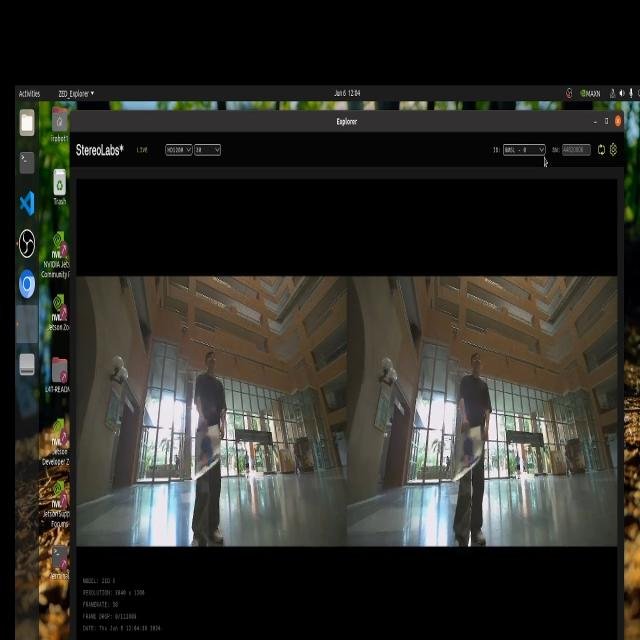blue: (460, 425, 480, 484), (194, 429, 216, 471)
